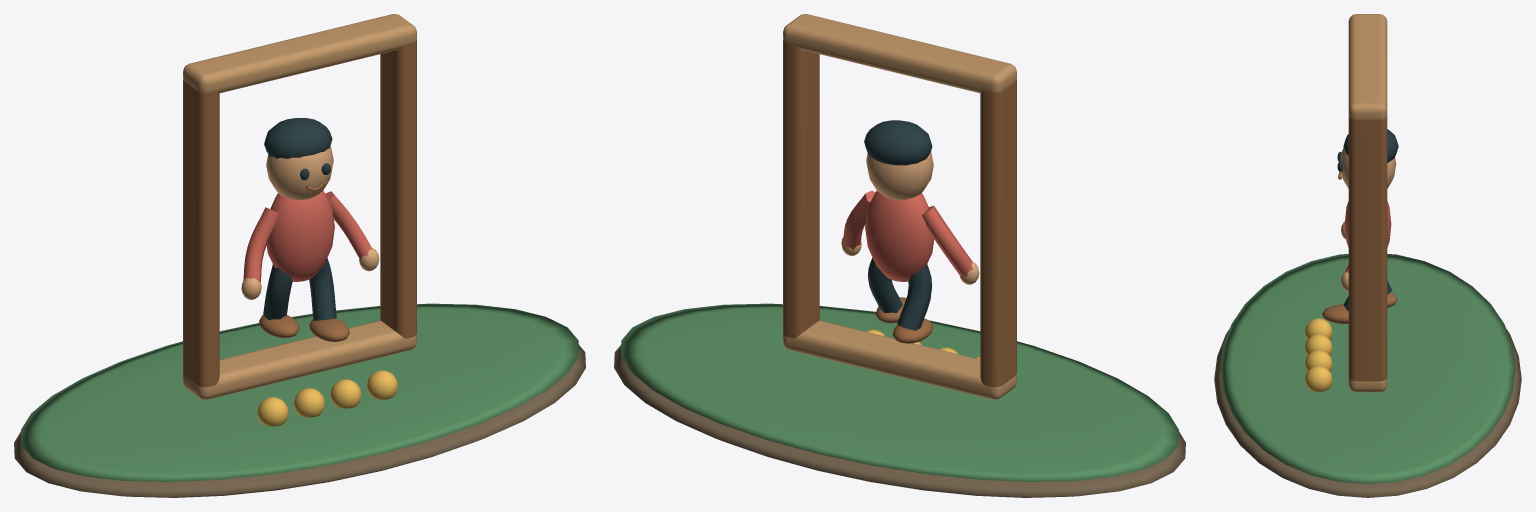
Rendered from four.glb.
3 views of the same model, side by side, from view 1: azimuth 30°, elevation 25°; view 2: azimuth 150°, elevation 25°; view 3: azimuth 270°, elevation 25° (orthographic). The views are drawn at different scales.
Visible parts, largest first — view 1: four_surface_01, four_surface_02, four_surface_03, four_surface_00, four_surface_06, four_surface_05, four_surface_04, four_surface_07; view 2: four_surface_01, four_surface_02, four_surface_03, four_surface_00, four_surface_06, four_surface_05, four_surface_04; view 3: four_surface_01, four_surface_02, four_surface_00, four_surface_03, four_surface_07, four_surface_04, four_surface_05.
Boxes of the visible parts, x1,y1,x2,y2 form: four_surface_01: [21, 303, 578, 481]; four_surface_02: [183, 40, 416, 387]; four_surface_03: [183, 14, 416, 399]; four_surface_00: [14, 345, 585, 497]; four_surface_06: [243, 190, 372, 282]; four_surface_05: [263, 118, 336, 320]; four_surface_04: [241, 146, 379, 299]; four_surface_07: [257, 370, 397, 426]; four_surface_01: [621, 303, 1178, 481]; four_surface_02: [783, 40, 1016, 387]; four_surface_03: [783, 14, 1016, 399]; four_surface_00: [614, 345, 1185, 497]; four_surface_06: [843, 190, 972, 281]; four_surface_05: [864, 120, 932, 330]; four_surface_04: [841, 151, 979, 284]; four_surface_01: [1220, 254, 1515, 484]; four_surface_02: [1322, 116, 1397, 381]; four_surface_00: [1214, 329, 1521, 497]; four_surface_03: [1348, 14, 1387, 392]; four_surface_07: [1305, 318, 1332, 391]; four_surface_04: [1340, 148, 1396, 291]; four_surface_05: [1337, 129, 1398, 311].
Bounding box in the file's own units: 4.56 × 3 × 2.5.
